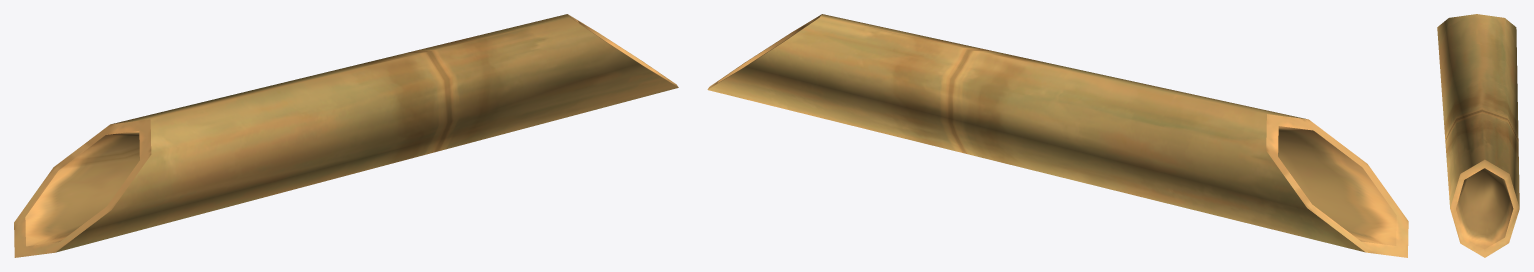
File: BambooTube_01_Mesh.fbx
3 renders of one model, left to right at view 1: azimuth 30°, elevation 25°; view 2: azimuth 150°, elevation 25°; view 3: azimuth 270°, elevation 25°, orthographic. The views are drawn at different scales.
Visible parts, largest first — view 1: BambooTube_01_LOD0; view 2: BambooTube_01_LOD0; view 3: BambooTube_01_LOD0.
Boxes of the visible parts, left/top/right/bottom form: BambooTube_01_LOD0: left=14, top=14, right=678, bottom=257; BambooTube_01_LOD0: left=707, top=14, right=1408, bottom=257; BambooTube_01_LOD0: left=1437, top=14, right=1519, bottom=257.
Size of the model in its own units: 79.4 by 12 by 12.5.
